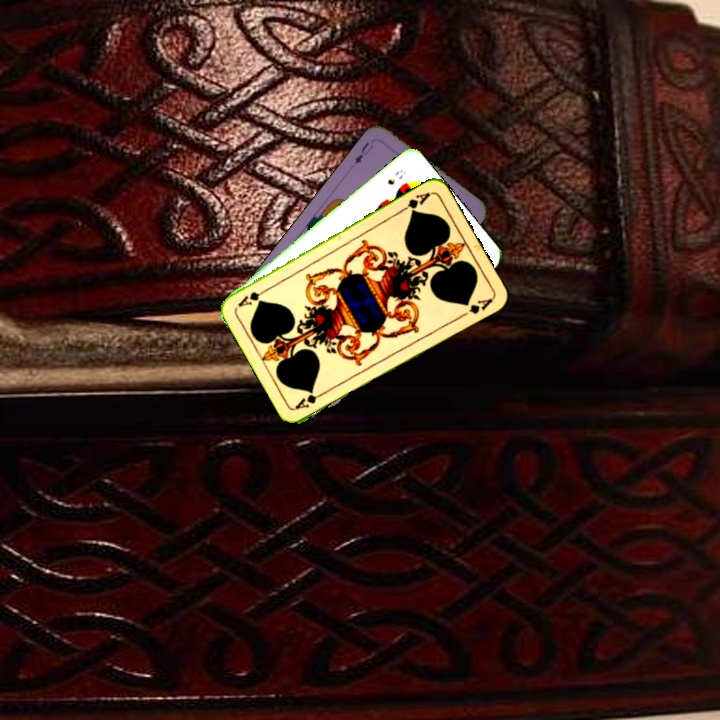EU: (350, 138, 376, 167)
GA: (396, 188, 433, 216), (291, 387, 330, 412)
S8: (383, 165, 409, 188)
